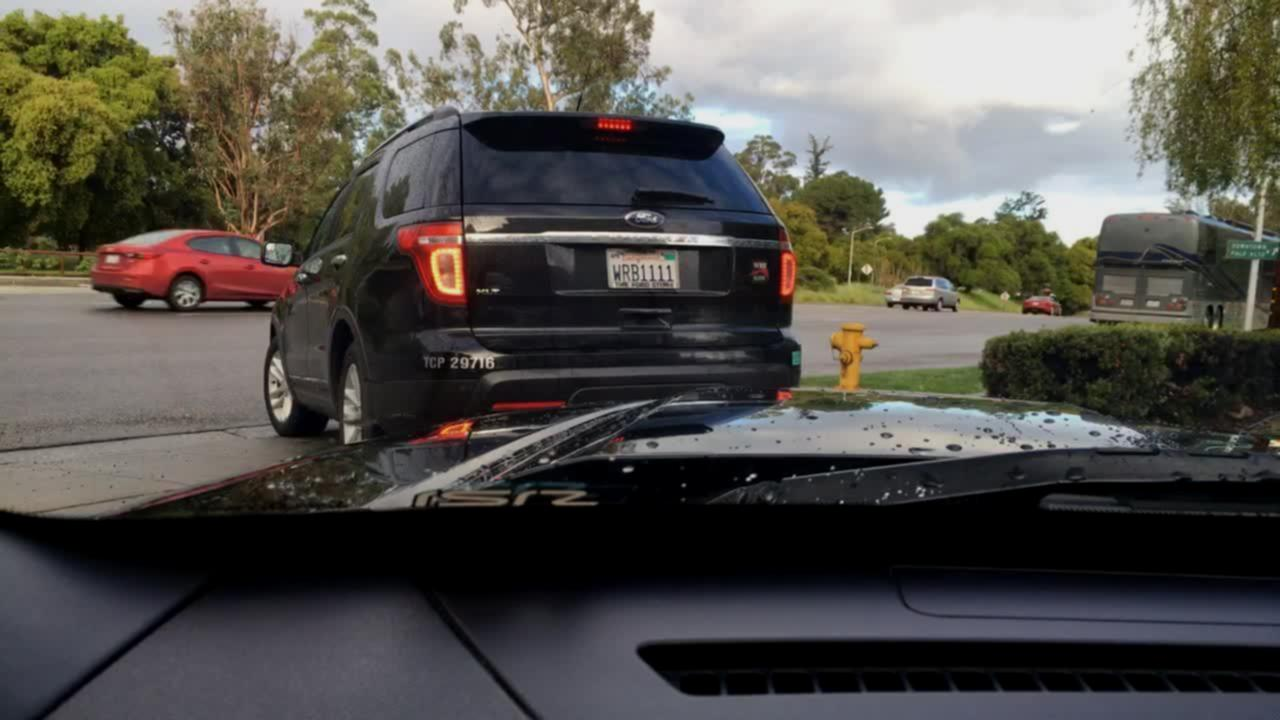ford: (612, 202, 683, 235)
